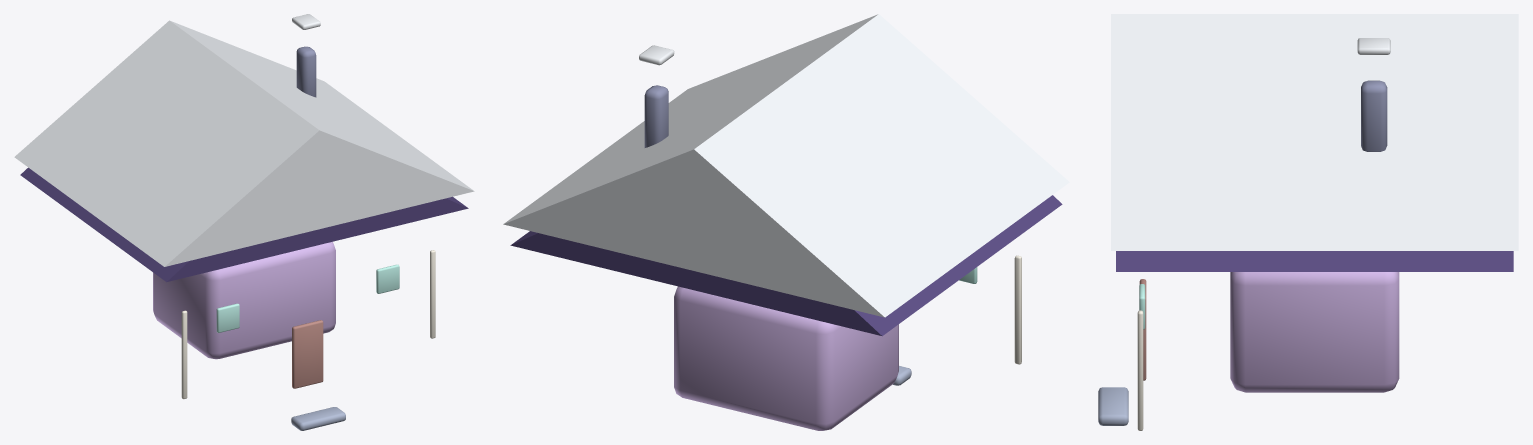
File: northern_house_2.glb
3 views of the same model, side by side, from view 1: azimuth 30°, elevation 25°; view 2: azimuth 150°, elevation 25°; view 3: azimuth 270°, elevation 25° (orthographic). The views are drawn at different scales.
Visible parts, largest first — view 1: SnowCap.002, HouseBody.002, GableRoof.002, FrontDoor.002, Chimney.002, DoorStep.002, CornerTrim_-1.002, FrontWindow_-1.002, FrontWindow_1.002, CornerTrim_1.002; view 2: SnowCap.002, HouseBody.002, GableRoof.002, Chimney.002, CornerTrim_-1.002; view 3: SnowCap.002, HouseBody.002, GableRoof.002, Chimney.002, DoorStep.002, CornerTrim_1.002, ChimneySnow.002.
Part boxes in pixels (bbox=[...]): SnowCap.002: bbox=[14, 20, 474, 266]; HouseBody.002: bbox=[153, 242, 335, 359]; GableRoof.002: bbox=[20, 167, 468, 282]; FrontDoor.002: bbox=[292, 320, 323, 388]; Chimney.002: bbox=[296, 46, 316, 97]; DoorStep.002: bbox=[291, 407, 345, 430]; CornerTrim_-1.002: bbox=[181, 310, 187, 399]; FrontWindow_-1.002: bbox=[216, 303, 239, 332]; FrontWindow_1.002: bbox=[376, 264, 399, 293]; CornerTrim_1.002: bbox=[430, 250, 435, 338]; SnowCap.002: bbox=[503, 14, 1069, 317]; HouseBody.002: bbox=[674, 286, 898, 430]; GableRoof.002: bbox=[510, 195, 1062, 336]; Chimney.002: bbox=[644, 85, 668, 147]; CornerTrim_-1.002: bbox=[1014, 255, 1021, 364]; SnowCap.002: bbox=[1111, 14, 1518, 250]; HouseBody.002: bbox=[1230, 272, 1399, 392]; GableRoof.002: bbox=[1116, 251, 1513, 271]; Chimney.002: bbox=[1361, 80, 1387, 151]; DoorStep.002: bbox=[1098, 387, 1128, 425]; CornerTrim_1.002: bbox=[1137, 310, 1143, 430]; ChimneySnow.002: bbox=[1357, 38, 1390, 54].
Size of the model in its own units: 5.75 by 5.54 by 4.97.
